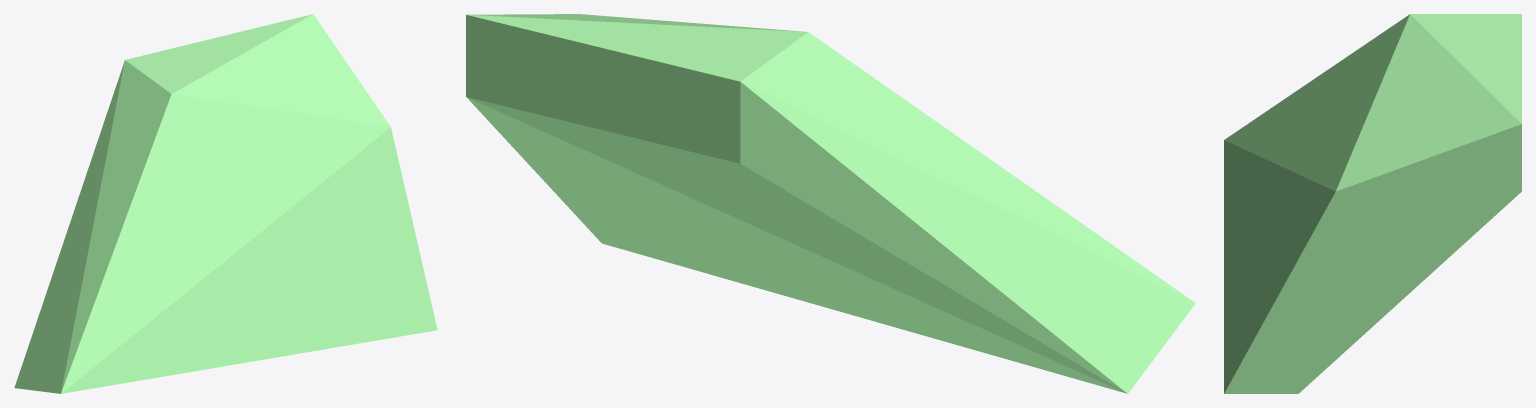
File: rambler_robot_base_coll_72.dae
3 renders of one model, left to right at view 1: azimuth 30°, elevation 25°; view 2: azimuth 150°, elevation 25°; view 3: azimuth 270°, elevation 25°, orthographic. The views are drawn at different scales.
Visible parts, largest first — view 1: Node_0x7fe100285c80; view 2: Node_0x7fe100285c80; view 3: Node_0x7fe100285c80.
Boxes of the visible parts, <box> form: Node_0x7fe100285c80: <box>14,14,437,393</box>; Node_0x7fe100285c80: <box>466,14,1195,393</box>; Node_0x7fe100285c80: <box>1224,14,1521,393</box>.
Size of the model in its own units: 0.1916 by 0.1095 by 0.1095.
